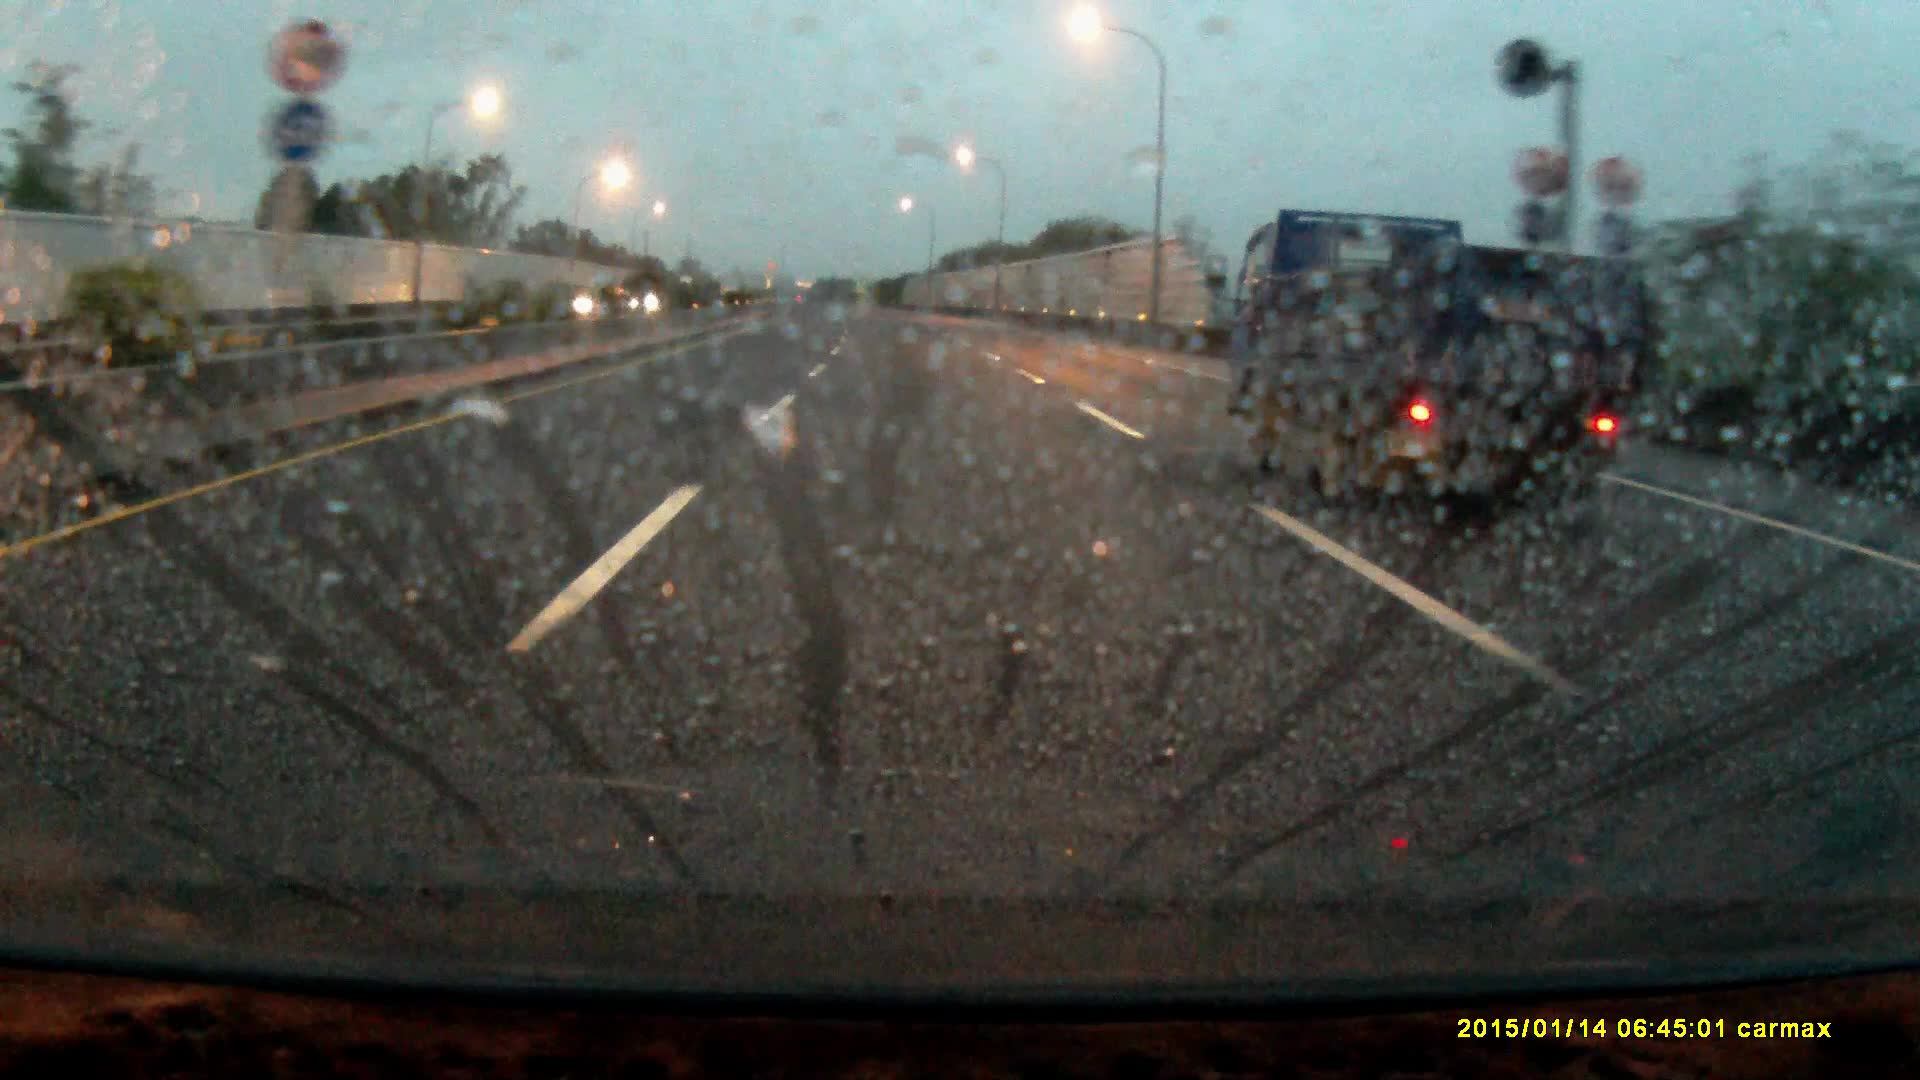vehicle: (1222, 203, 1662, 535)
